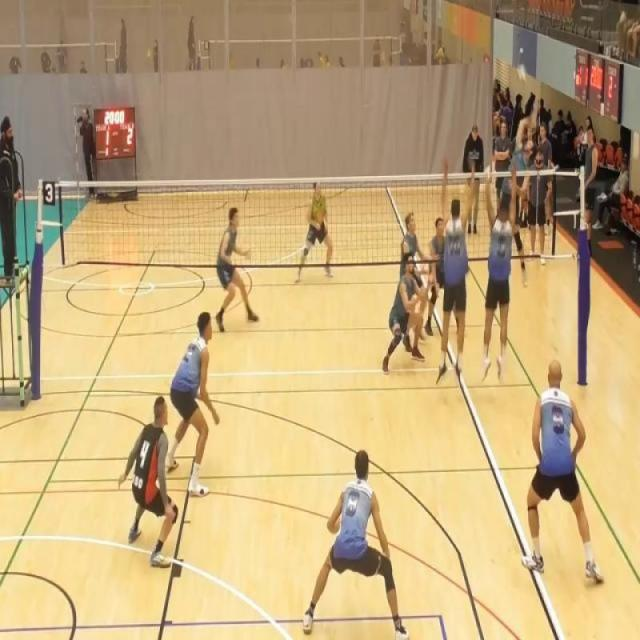volleyball: (516, 64, 528, 86)
